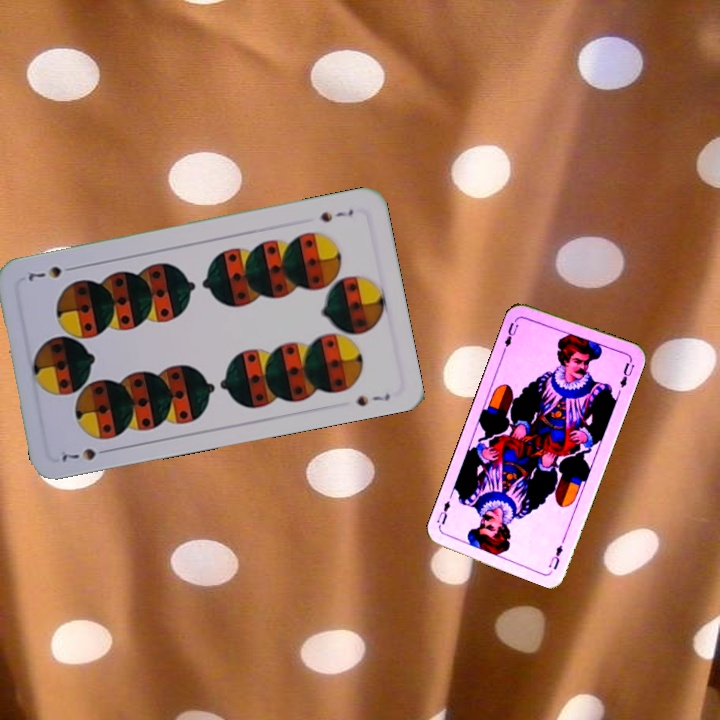EU: (500, 318, 521, 354), (544, 541, 565, 572)
S7: (57, 443, 114, 464), (316, 205, 356, 225)
